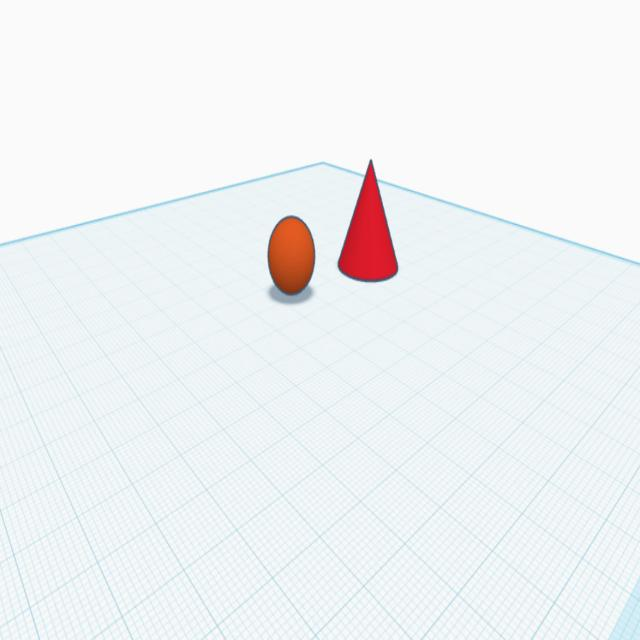sphere: (336, 154, 402, 286), (266, 208, 317, 298)
